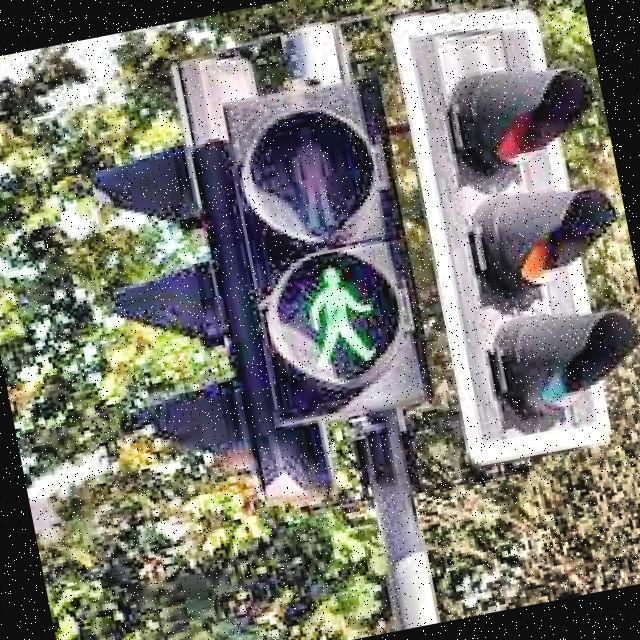green_light: (298, 258, 386, 374)
